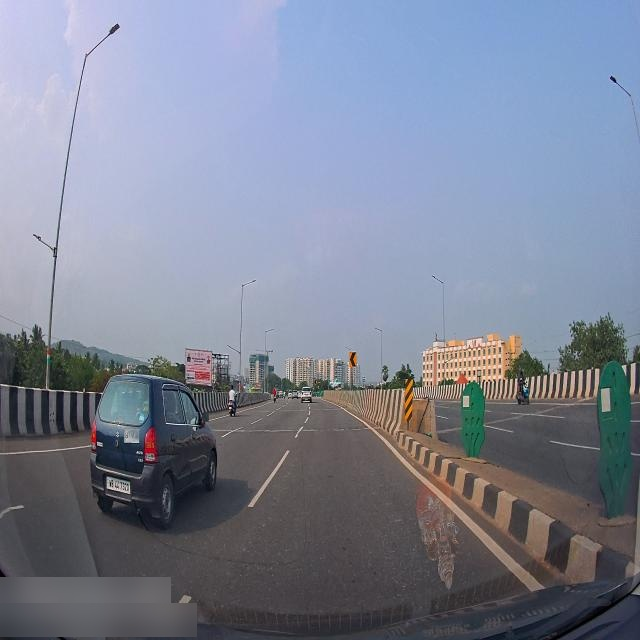pothole: (214, 427, 384, 434)
